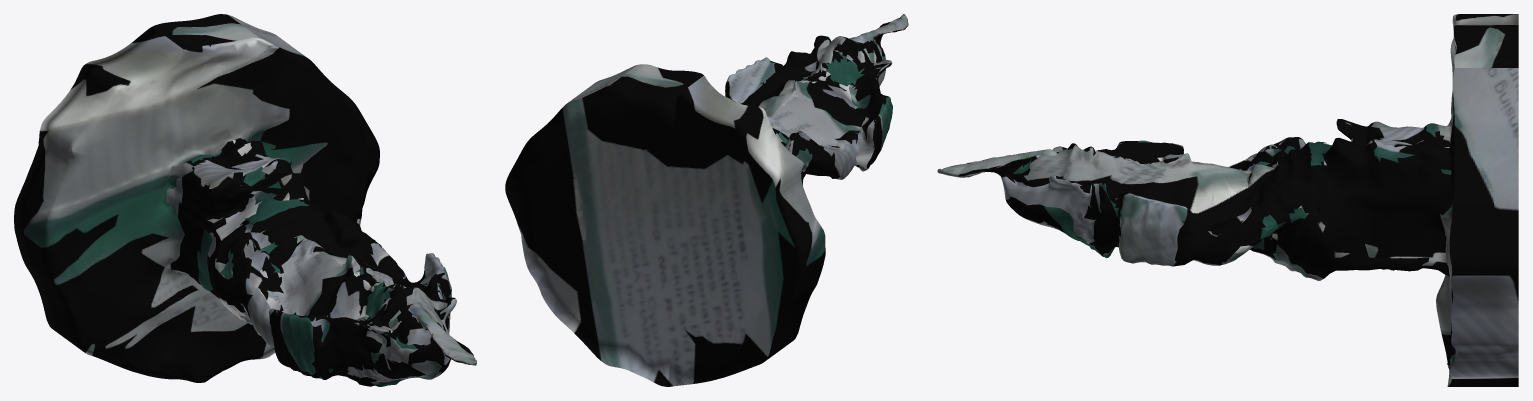
Rendered from smr_2440.fbx.
The picture shows the model from 3 angles, left to right: view 1: azimuth 30°, elevation 25°; view 2: azimuth 150°, elevation 25°; view 3: azimuth 270°, elevation 25°; orthographic projection. The views are drawn at different scales.
Visible parts, largest first — view 1: smr_2440; view 2: smr_2440; view 3: smr_2440.
Boxes of the visible parts, x1=… form: smr_2440: x1=14, y1=14, x2=476, y2=386; smr_2440: x1=505, y1=14, x2=908, y2=386; smr_2440: x1=937, y1=14, x2=1518, y2=386.
Bounding box in the file's own units: 49.02 × 47.12 × 74.62.
